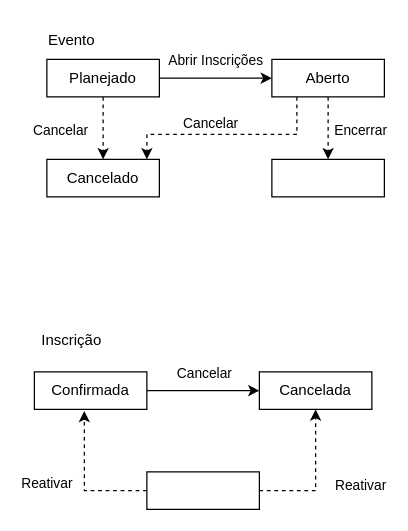
This 408x531 diagram has some shape labels left out. The centre of each missing label's shape, as x and y in pixels:
Encerrado: point (327, 177)
Reativada: point (202, 490)
